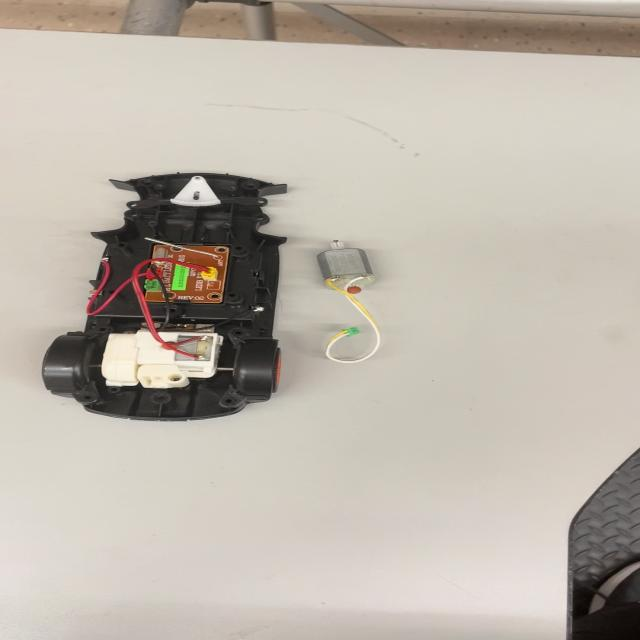Chassis: (41, 175, 296, 423)
motor: (311, 234, 384, 298)
